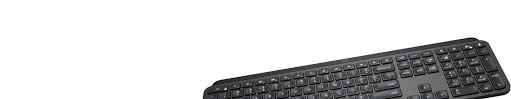keyboard: (183, 27, 511, 99)
